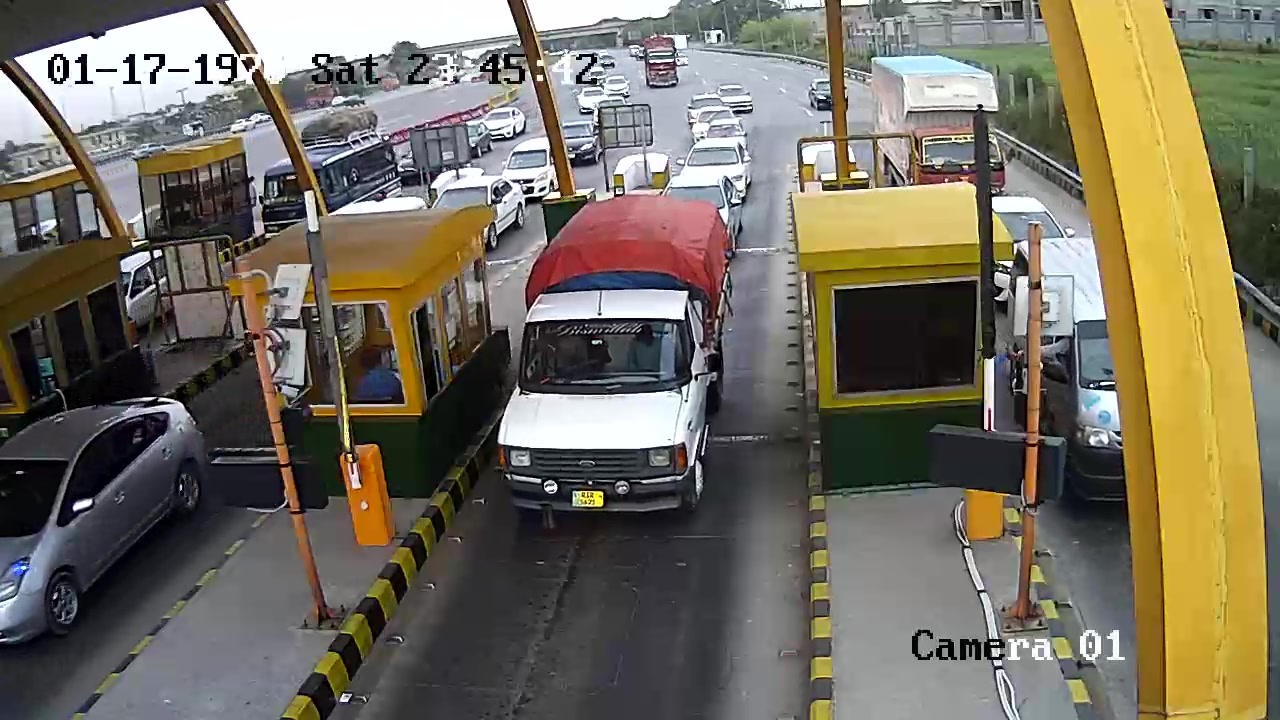F2: (494, 196, 753, 533)
